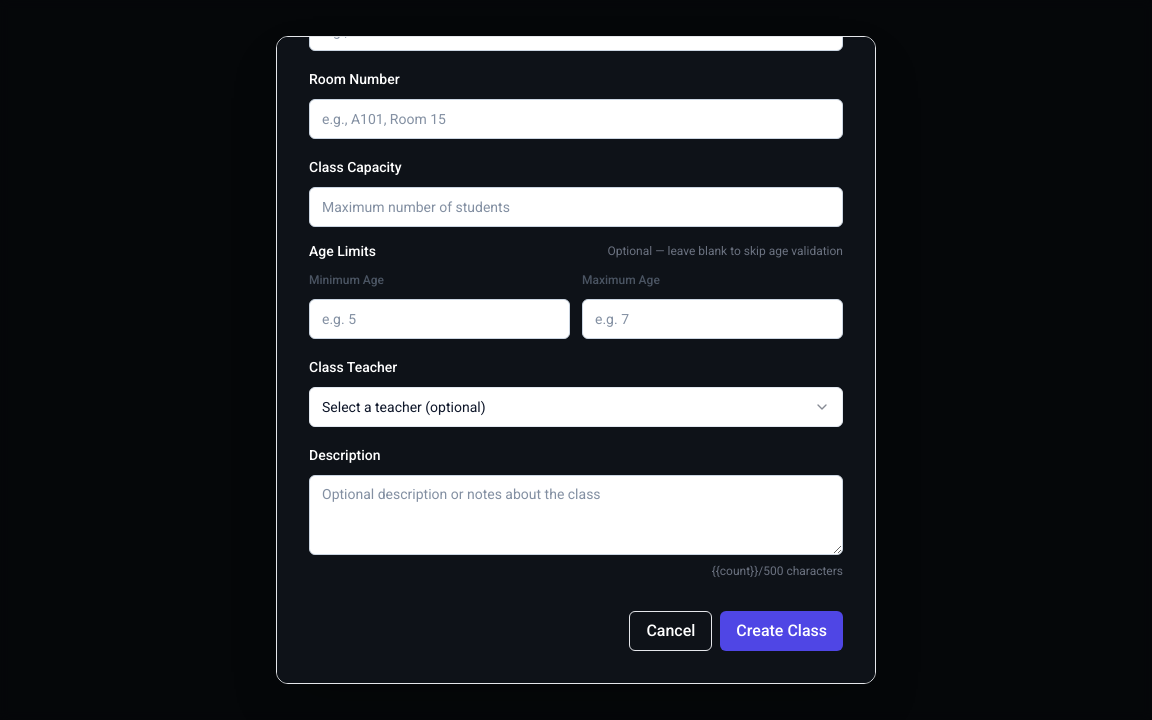
Test: ClassFormModal Component › shows validation errors when submitting empty form
(page scrolled)
Click the button "Create Class": [782, 631] box 720,611 -> 843,651
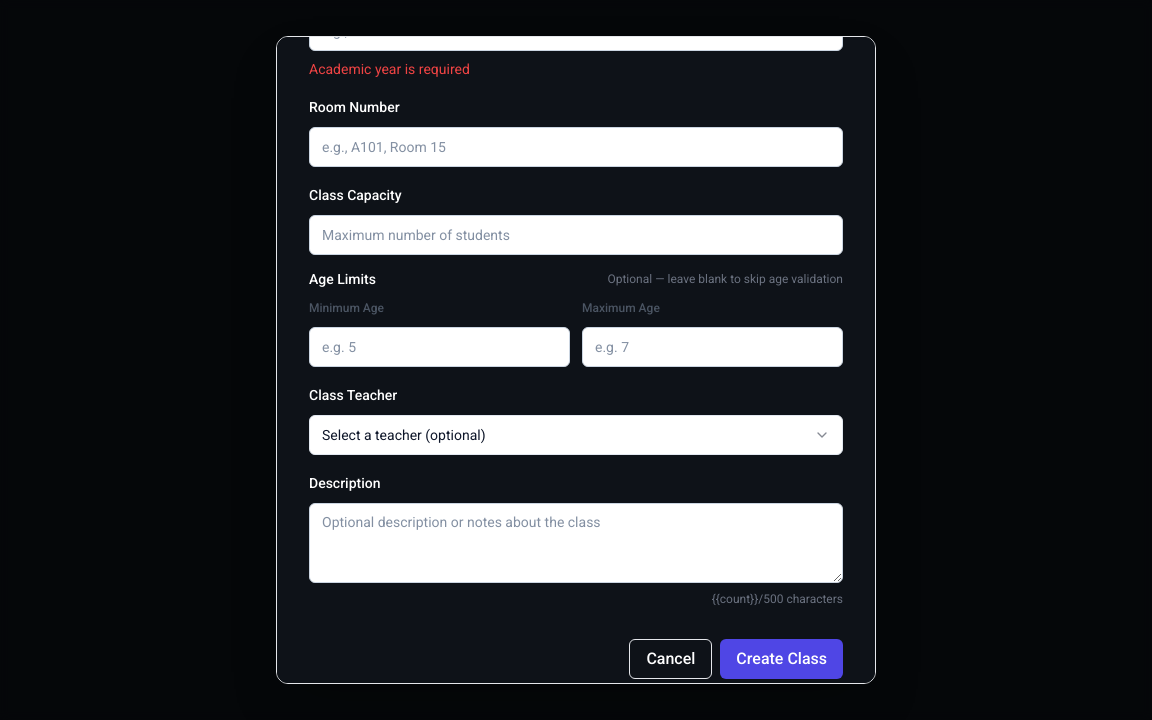
Expected: the text "Academic year is required" is shown, 309,61 -> 470,77
